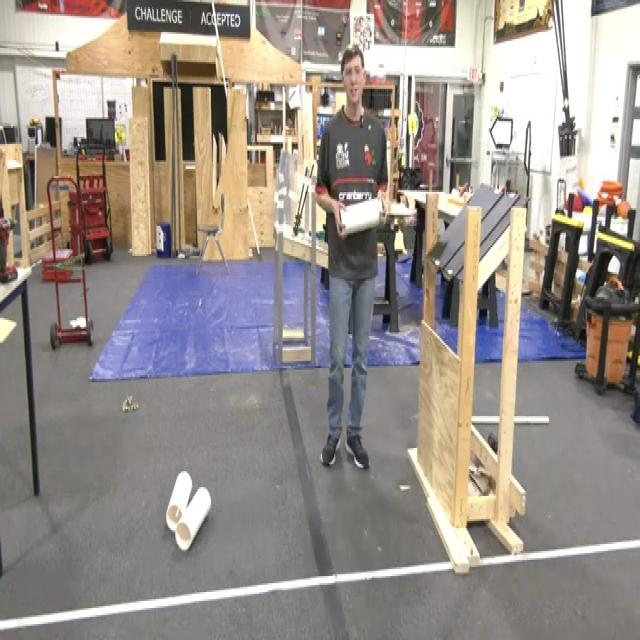Coral: (174, 484, 211, 551), (340, 198, 384, 242), (165, 468, 192, 532)
